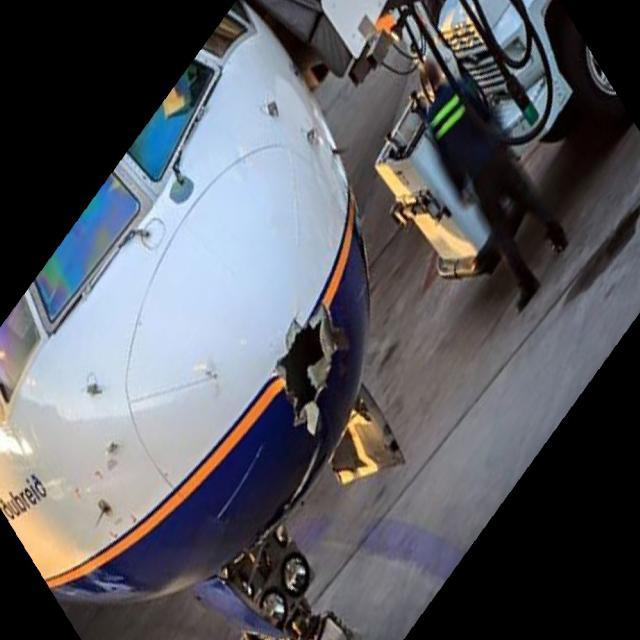crack: (268, 300, 350, 440)
